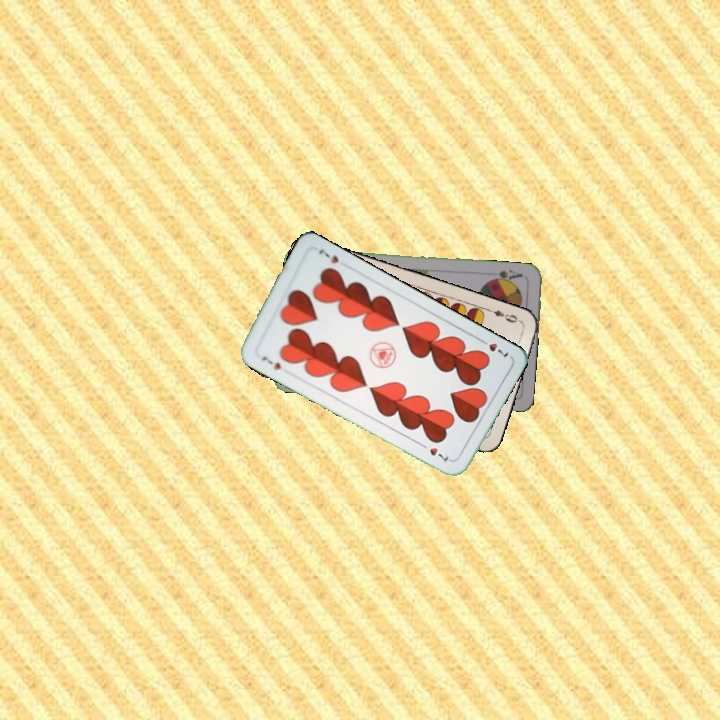E9: (484, 305, 524, 325)
H7: (475, 335, 511, 361), (258, 352, 284, 373)
SA: (486, 265, 525, 285)
